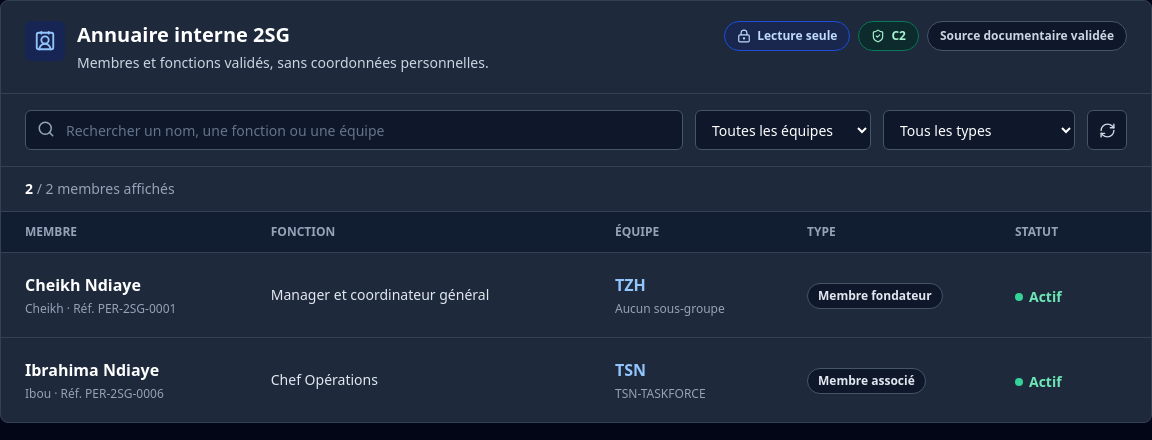
Scenario: filters accented associate member types from the backend contract
This screenshot has width=1152, height=440.
Check: the text "Cheikh Ndiaye" is shown, box [25,274,141,296]
Select "Membre associé" in the dropdown showing "Tous les types" at (979, 130), box [883,110,1075,150]
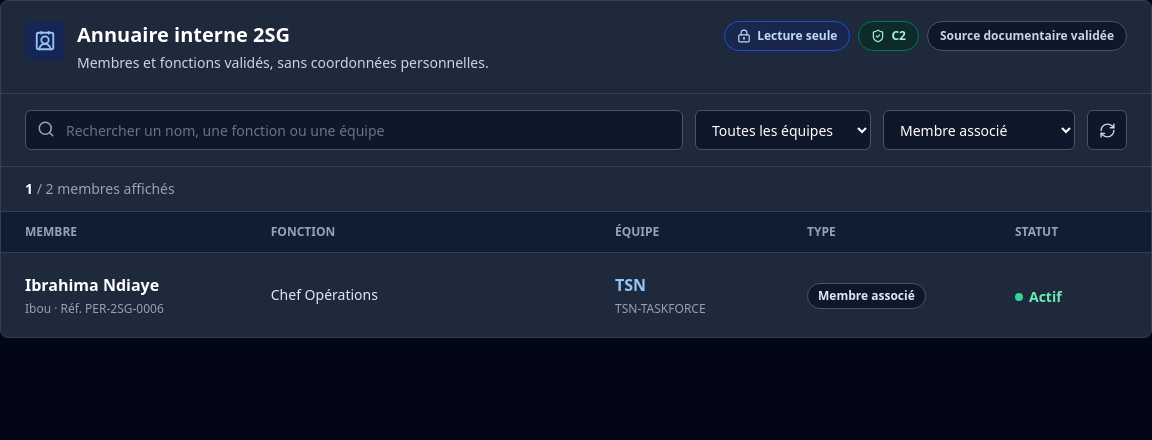
Check: the text "Ibrahima Ndiaye" is shown, box [25,274,159,296]
Check: the text "Cheikh Ndiaye" is gone
